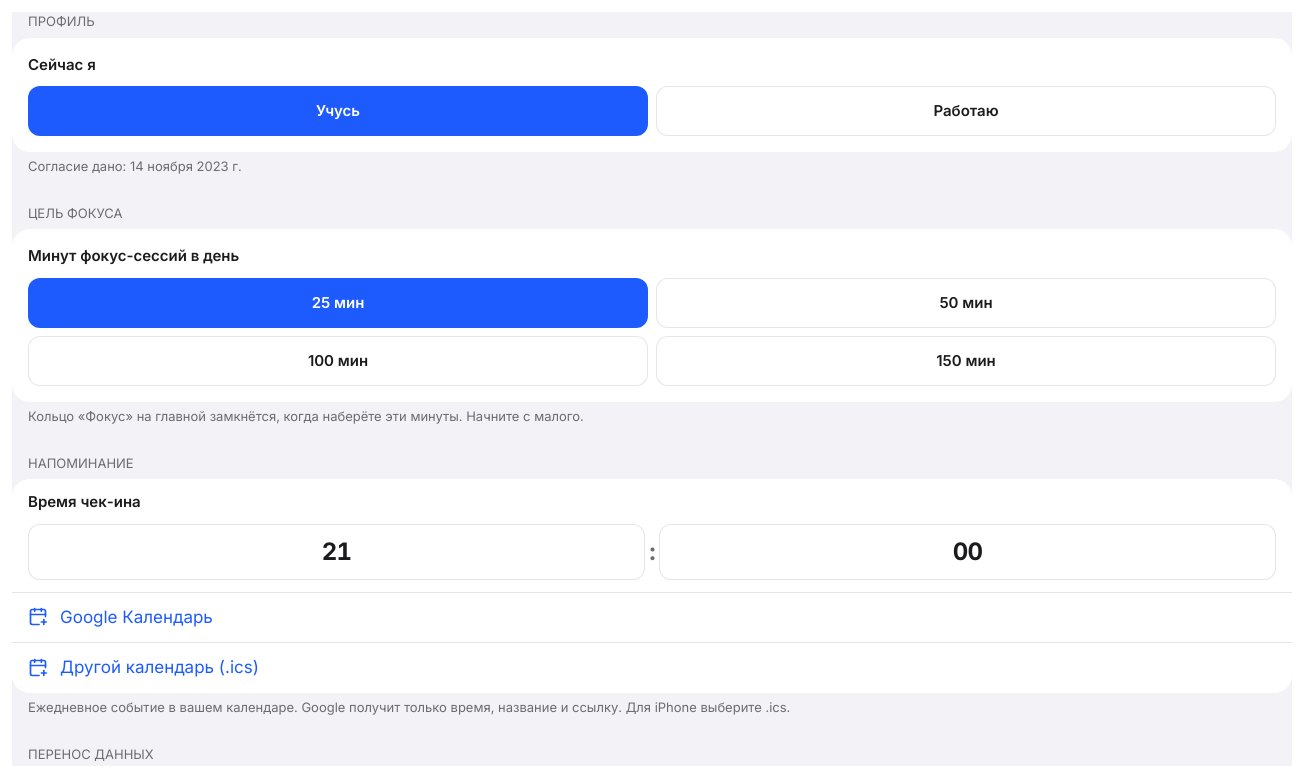
Test: SettingsScreen › changes mode and keeps the consent time
Click the radio button labelled "Работаю" at (966, 111), box [656, 86, 1276, 136]
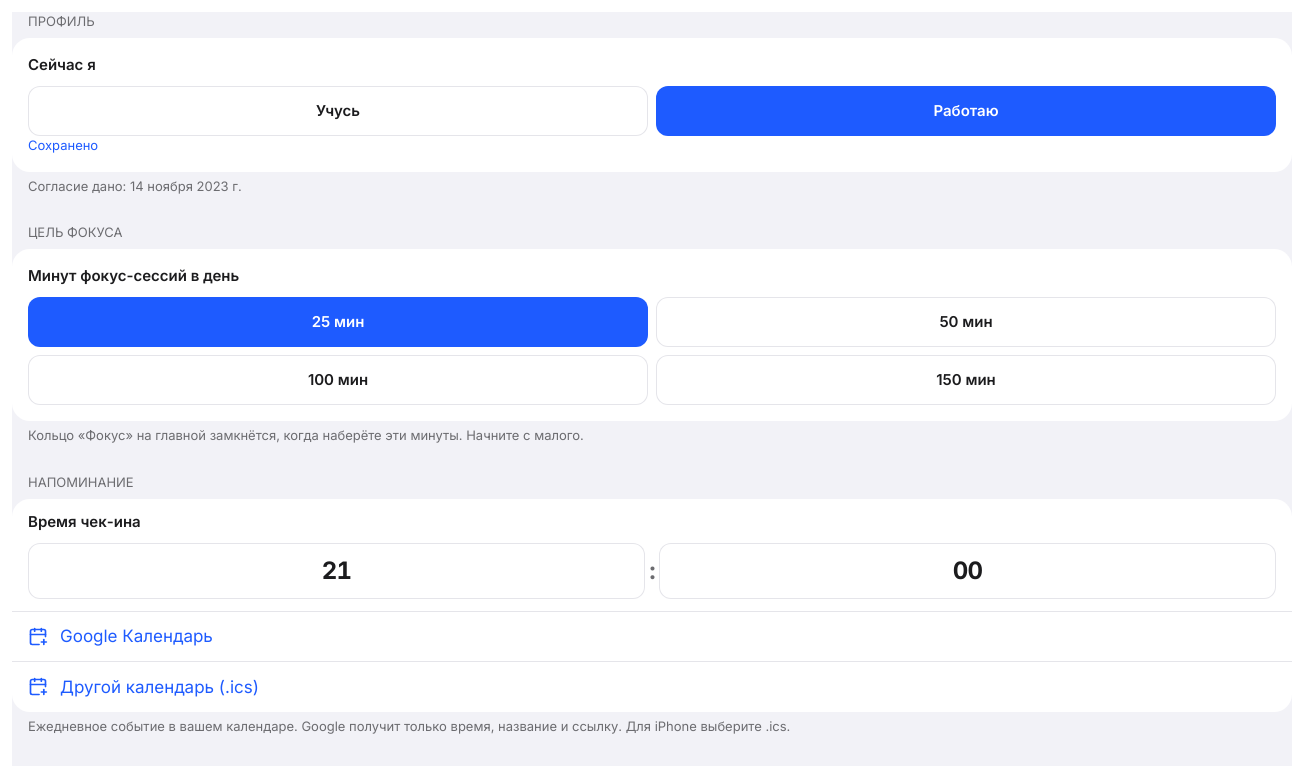
Now the text "Сохранено" is shown, box [28, 137, 98, 153]
